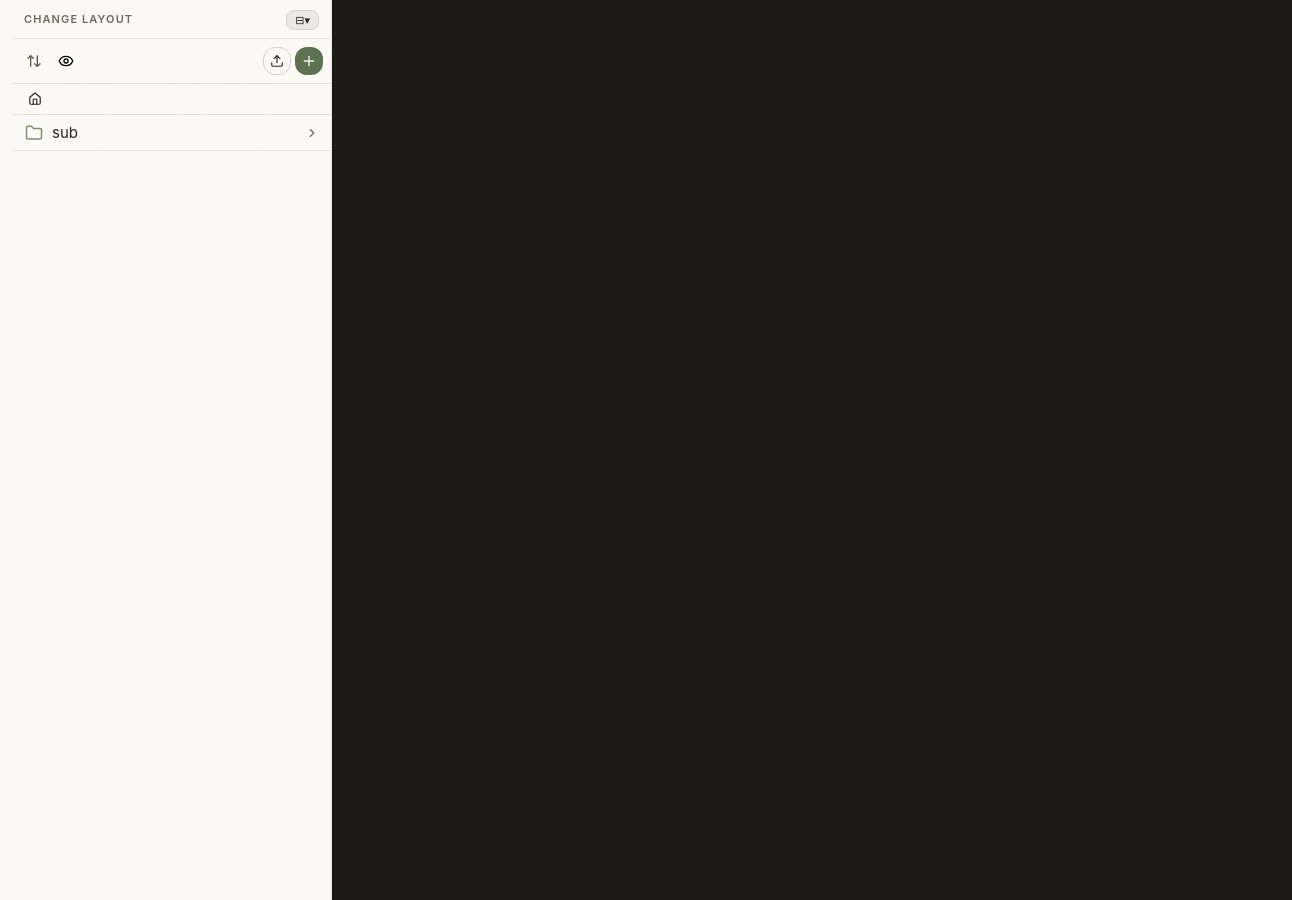
Test: Files browse flow › mount → initial load → click directory → list updates
This screenshot has width=1292, height=900.
Click the button "sub".
click(34, 132)  # box [12,115,331,151]
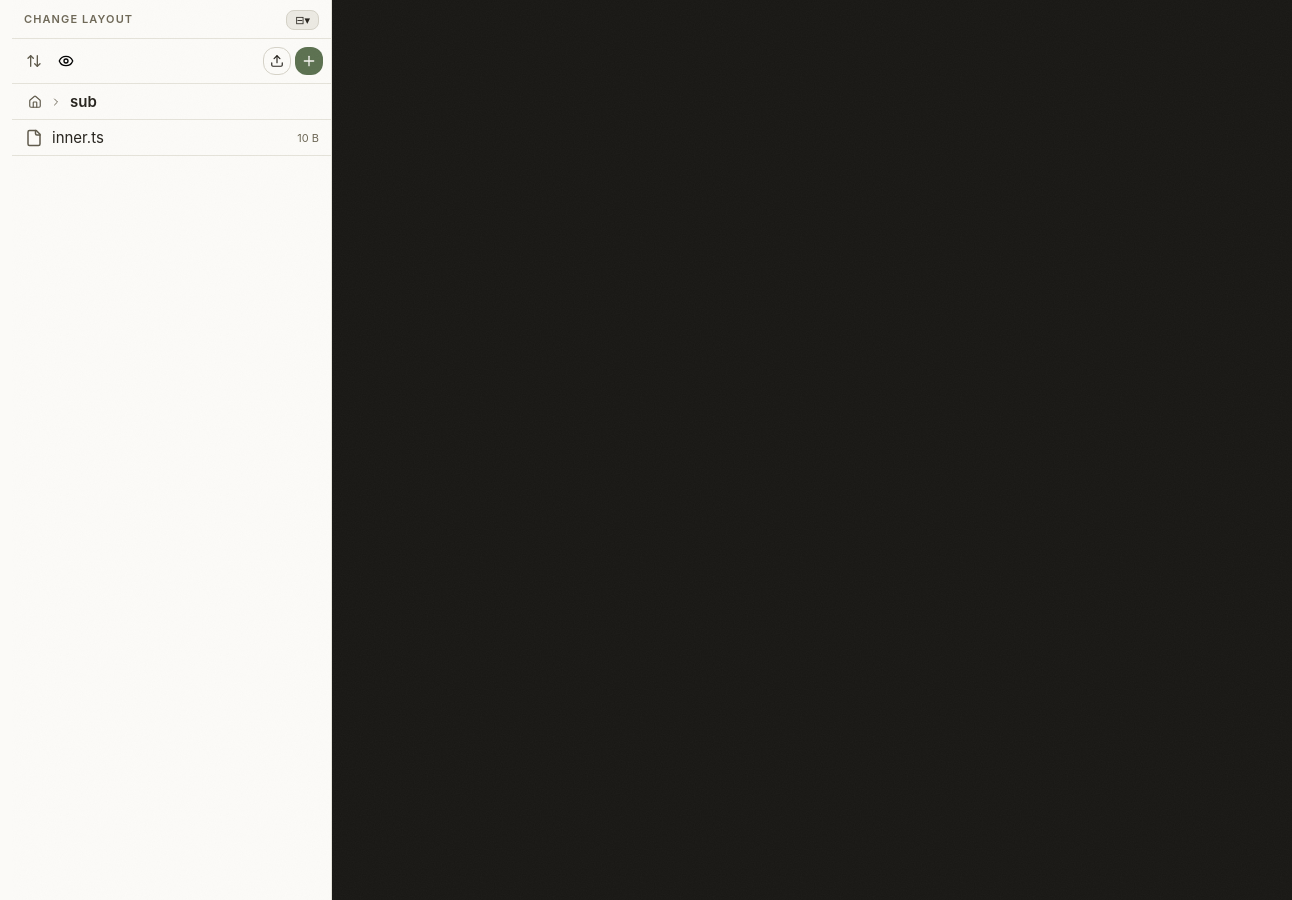
Check: the button "inner.ts 10 B" is shown, box [12,120,331,156]
